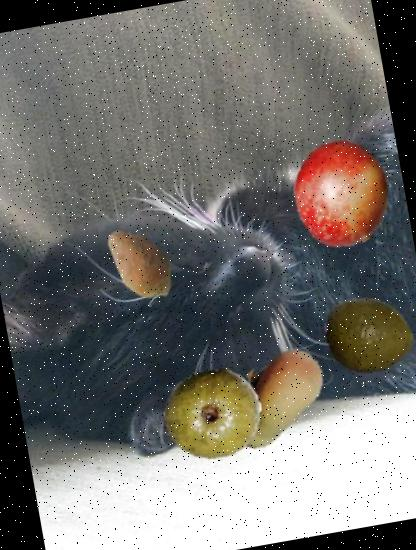Guava: (155, 356, 270, 471), (319, 284, 416, 386)
Nectarine: (282, 133, 404, 255)
Peach: (207, 330, 341, 464)
Potato: (90, 212, 190, 312)
